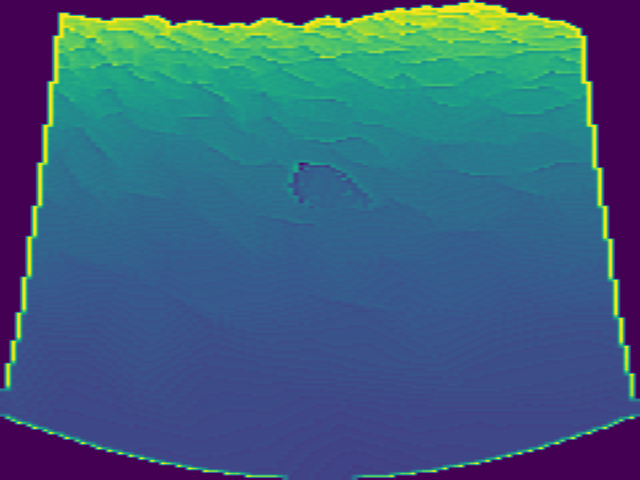car_0198: (290, 160, 370, 210)
